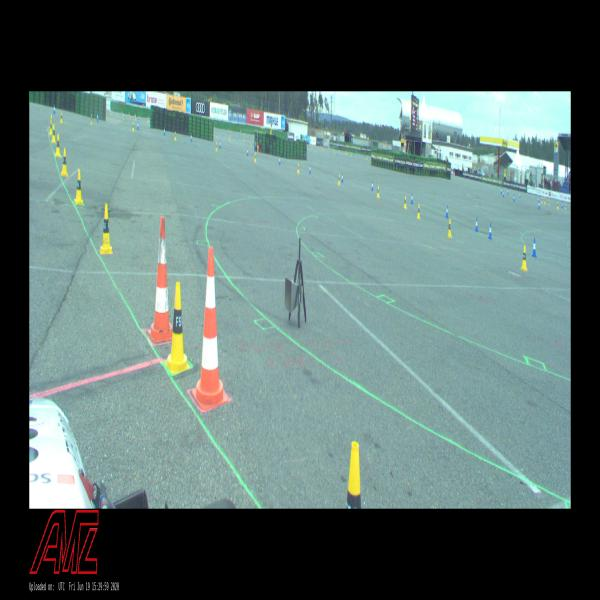blue_cone: (532, 238, 536, 258), (488, 222, 492, 240), (475, 218, 478, 231), (341, 172, 344, 183), (53, 104, 56, 114), (446, 205, 448, 218), (411, 193, 413, 204), (309, 164, 311, 174), (372, 181, 374, 191), (97, 113, 99, 122), (164, 127, 166, 136), (190, 133, 192, 142), (219, 140, 221, 149), (137, 122, 139, 130), (279, 157, 281, 165), (538, 201, 540, 209)
large_orange_cone: (192, 246, 228, 410), (148, 216, 173, 342)
yellow_cone: (164, 282, 190, 373), (347, 442, 361, 508), (100, 204, 113, 254), (74, 170, 84, 204), (61, 148, 68, 177), (521, 245, 527, 271), (55, 134, 61, 158), (51, 124, 56, 143), (447, 219, 452, 238), (417, 204, 421, 219), (49, 120, 53, 134), (49, 115, 53, 128), (404, 195, 407, 209), (60, 112, 63, 123), (174, 132, 177, 141), (298, 163, 300, 174), (338, 174, 340, 185), (377, 186, 379, 197), (91, 114, 93, 124), (132, 122, 134, 131), (216, 142, 218, 151), (255, 152, 256, 162)
